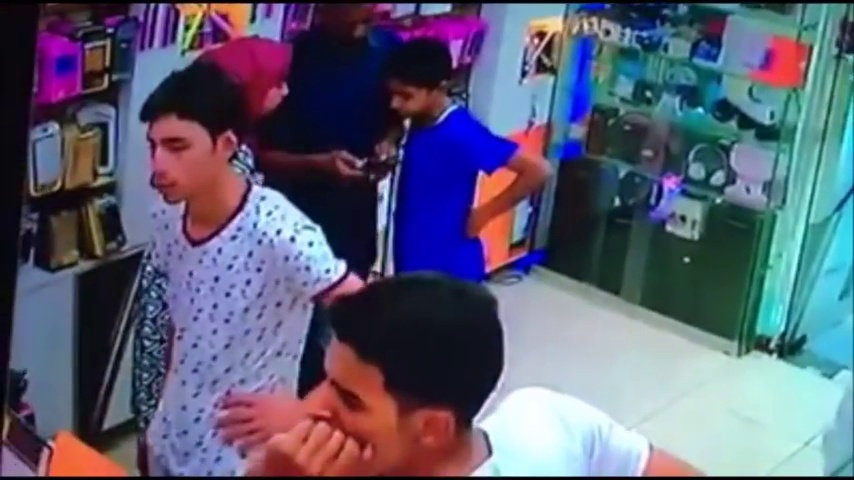face: (289, 329, 414, 480), (145, 120, 214, 204), (384, 72, 436, 121)
